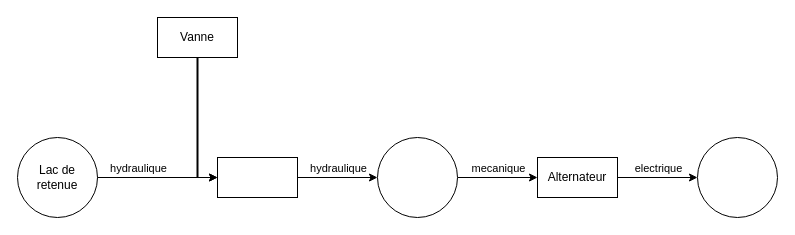
This 795x235 diagram has some shape labels left out. The centre of each missing label's shape, as x and y in pixels:
"canal d'écoulement de l'eau" belongs at point (257, 177).
"turbine" belongs at point (417, 177).
